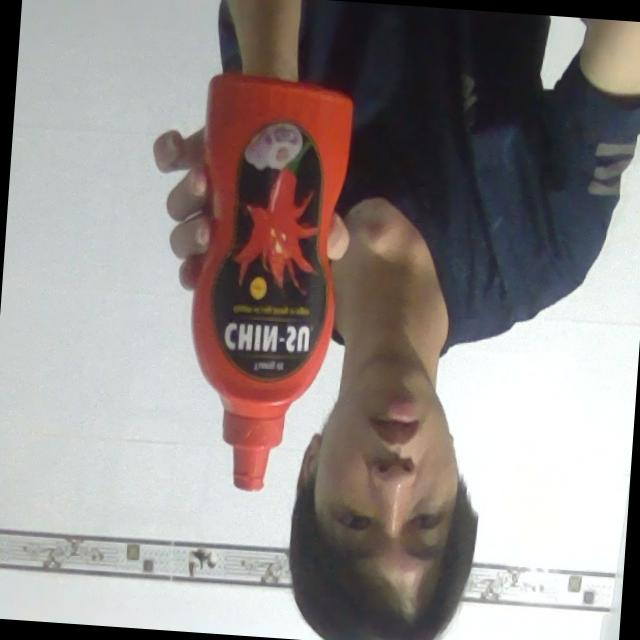tuong ot chinsu: (171, 71, 364, 498)
